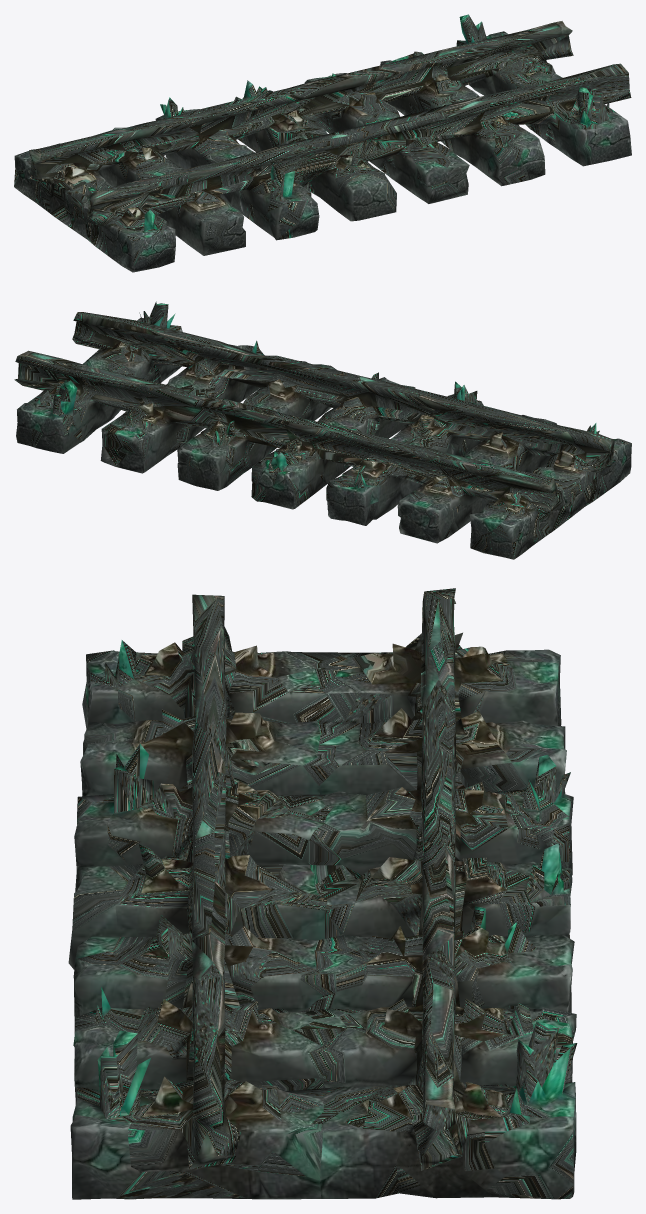
File: railway_track_03.glb
3 views of the same model, one above another, from view 1: azimuth 30°, elevation 25°; view 2: azimuth 150°, elevation 25°; view 3: azimuth 270°, elevation 25° (orthographic). The views are drawn at different scales.
Visible parts, largest first — view 1: tripo_node_0e12e4e2-681e-407c-89ac-cdae2443c0a0; view 2: tripo_node_0e12e4e2-681e-407c-89ac-cdae2443c0a0; view 3: tripo_node_0e12e4e2-681e-407c-89ac-cdae2443c0a0.
Part boxes in pixels (x1,y1,x2,y2): tripo_node_0e12e4e2-681e-407c-89ac-cdae2443c0a0: [14, 14, 631, 272]; tripo_node_0e12e4e2-681e-407c-89ac-cdae2443c0a0: [14, 301, 631, 559]; tripo_node_0e12e4e2-681e-407c-89ac-cdae2443c0a0: [68, 588, 577, 1199].
Size of the model in its own units: 0.9814 by 0.1195 by 0.4033.
1 material, 1 textured.
